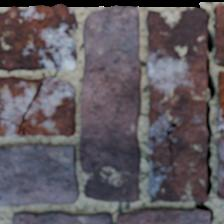brick: (80, 8, 141, 201), (147, 10, 206, 201), (0, 7, 77, 70), (0, 145, 78, 205), (0, 77, 75, 135), (117, 209, 210, 223), (12, 213, 111, 223), (215, 5, 223, 66), (217, 138, 223, 195), (0, 120, 17, 136), (219, 72, 223, 131)
crack: (0, 2, 223, 222), (0, 81, 43, 135)
